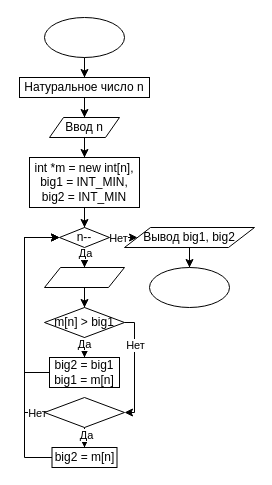
The diagram is 272 pixels wide and 485 high, and some of its shapes have lost their labels. The shapes that lost their labels are listed below. From the top down, each one's centre as x and y in pixels, then its label:
At pixel 84 37: "Начало".
At pixel 84 277: "Ввод m[n]".
At pixel 189 287: "Конец".
At pixel 84 412: "m[n] > big2".
